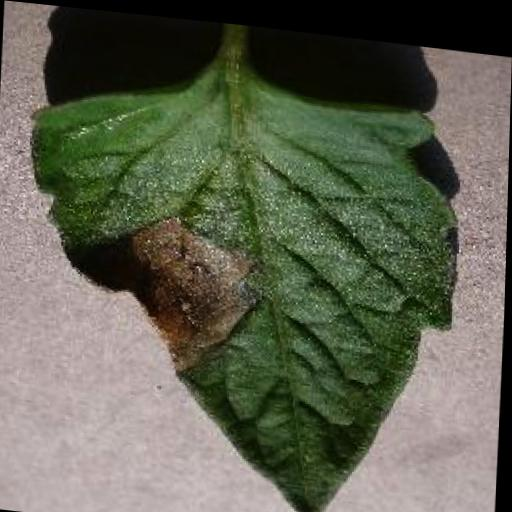Late Blight: (11, 53, 461, 512)
